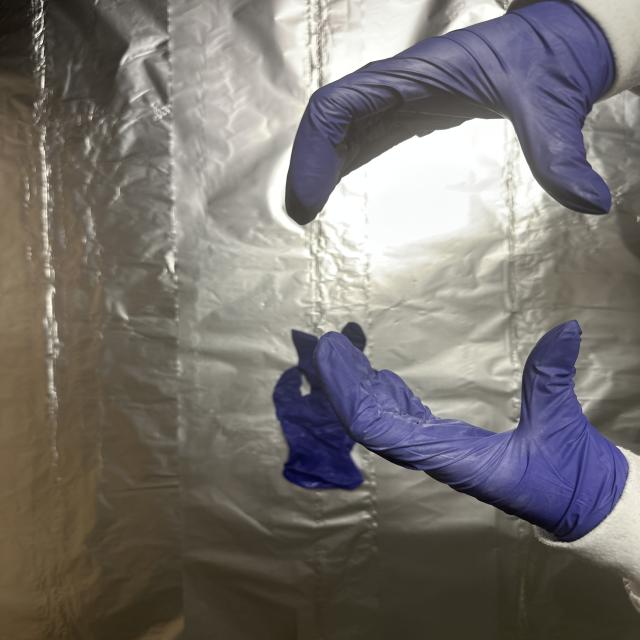gloves_contaminated: (286, 2, 614, 223), (314, 321, 628, 541)
